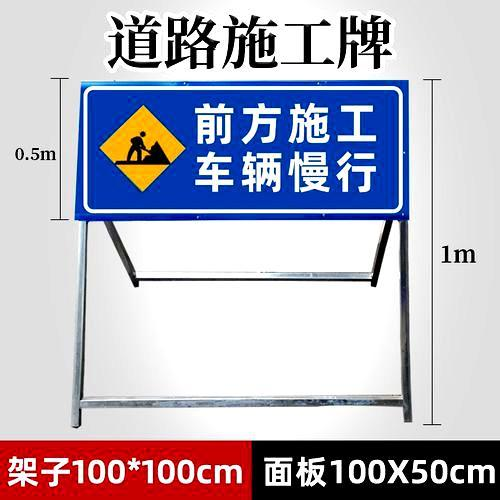sign: (78, 81, 410, 216)
